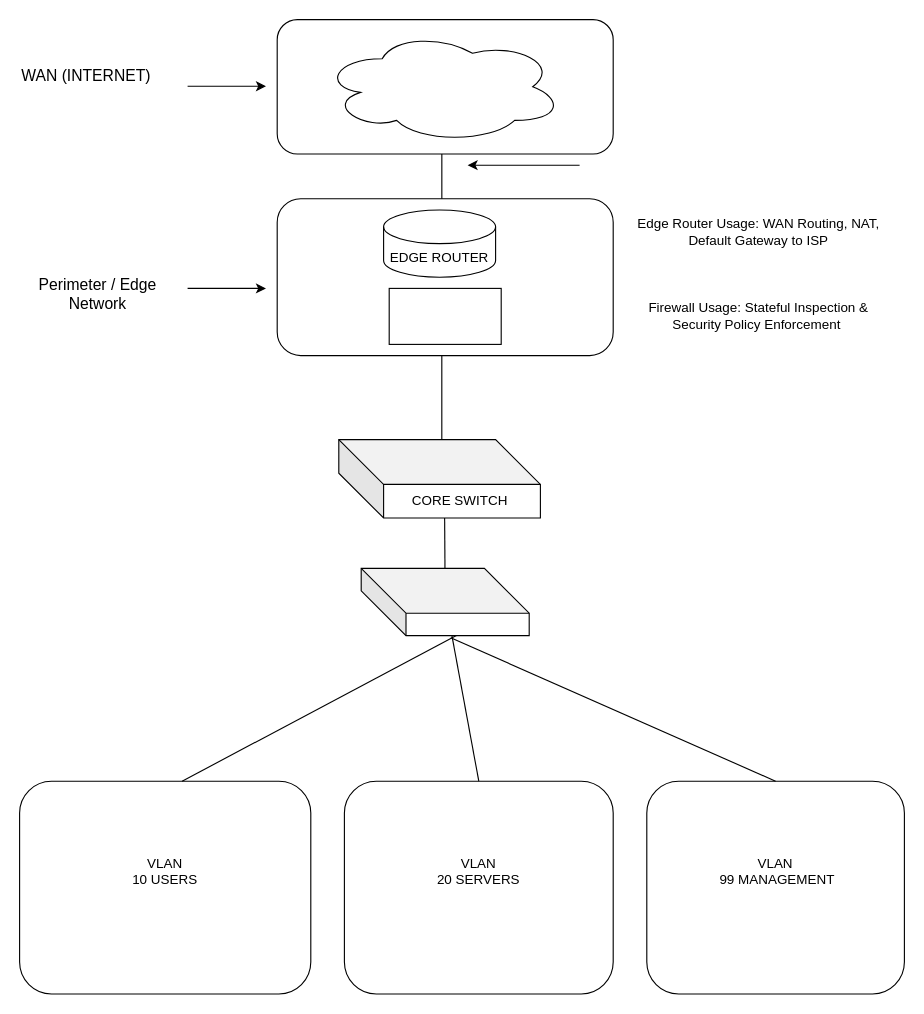
This 924x1014 diagram has some shape labels left out. Here are the shapes that lost their labels. From the top down, the centre of each, then its label:
At (x=442, y=86): "INTERNET ISP".
At (x=444, y=315): "FIREWALL".
At (x=444, y=601): "ACCESS SWITCH".
